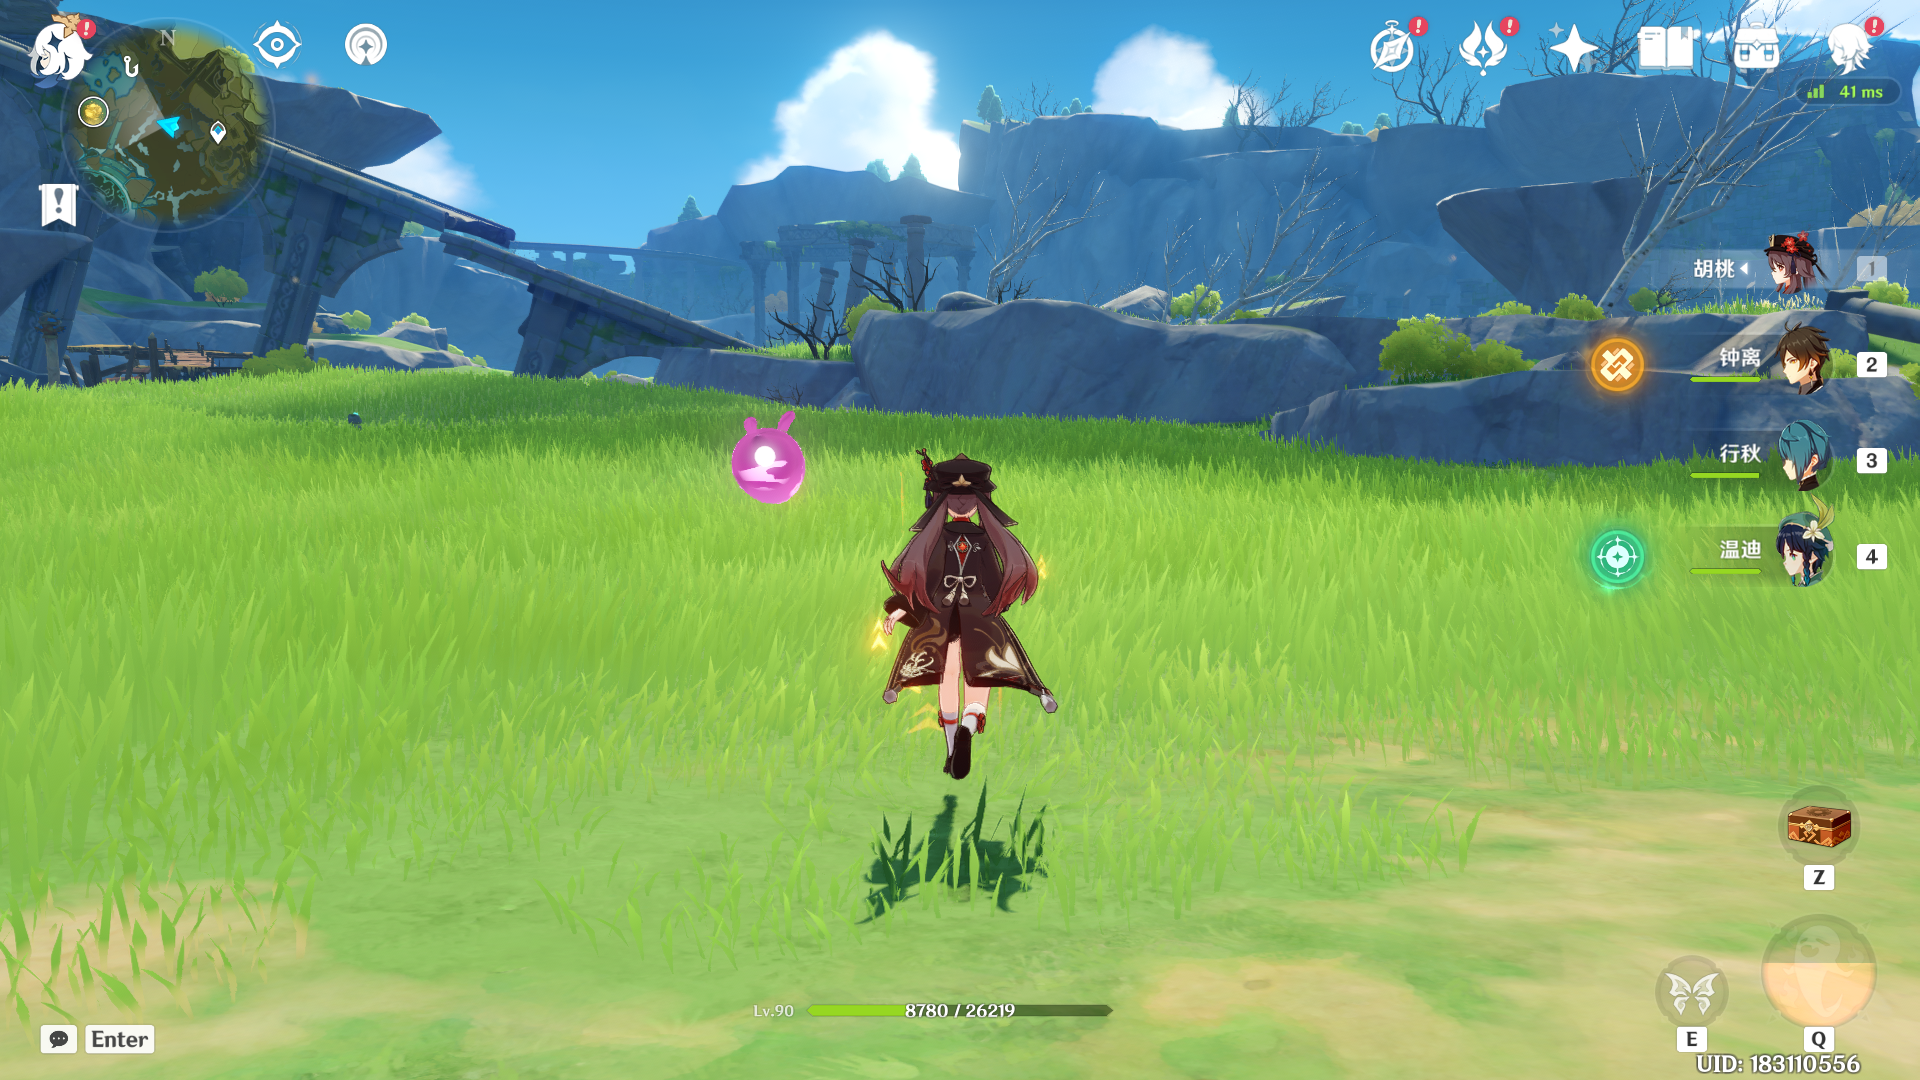character: (822, 414, 1151, 899)
